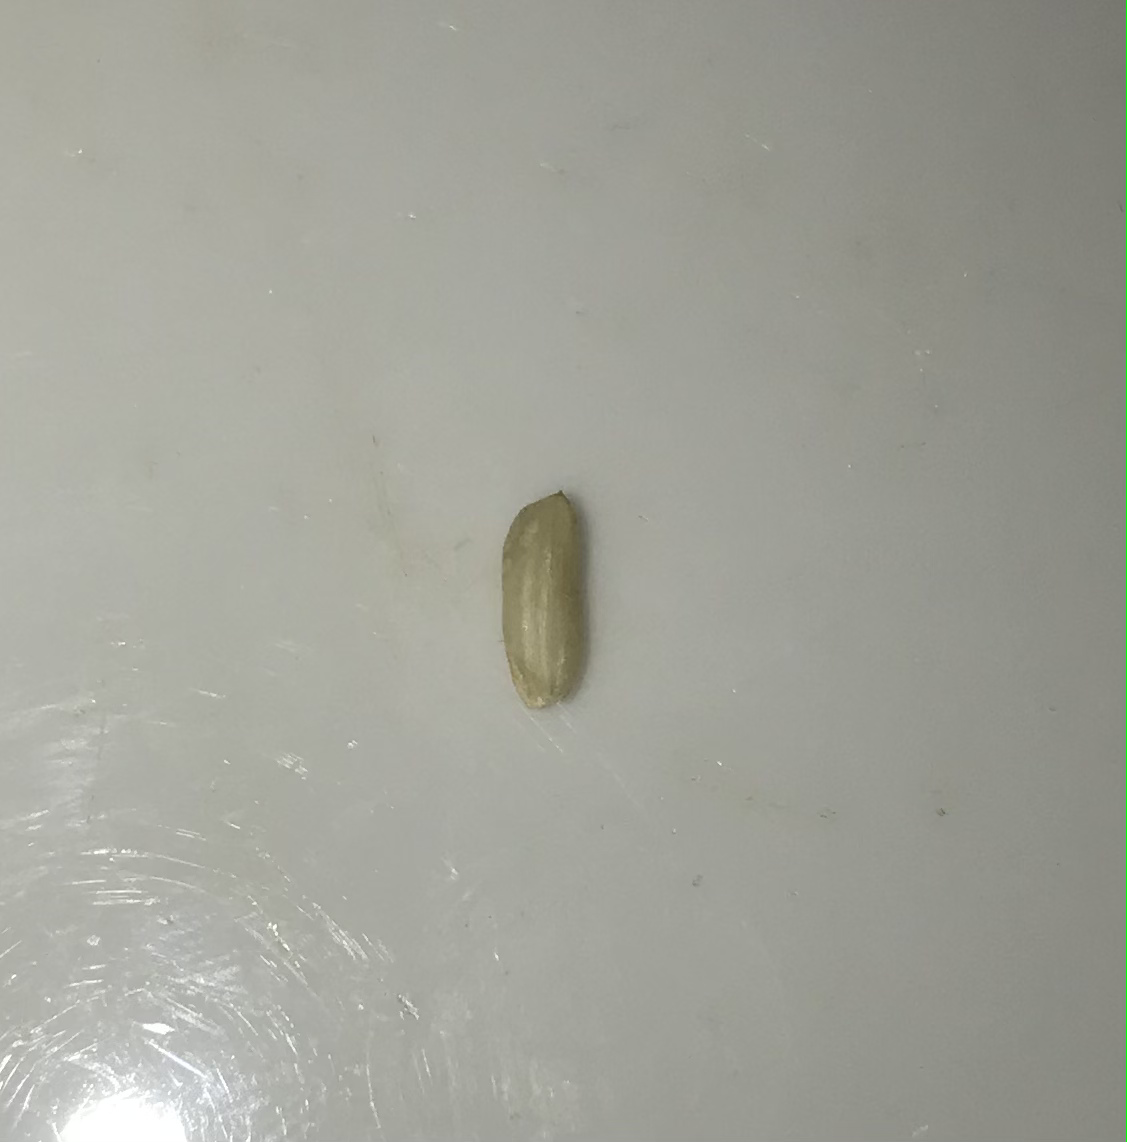Gao Lut Trang: (485, 490, 622, 708)
